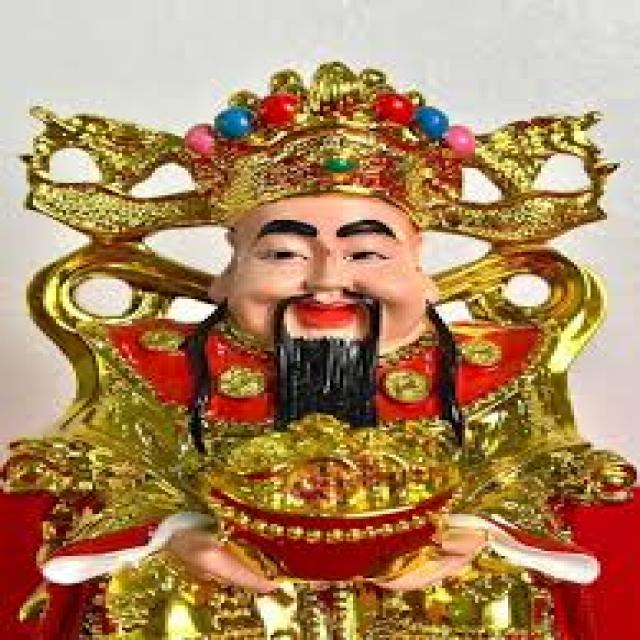Cai shen: (8, 54, 629, 596)
